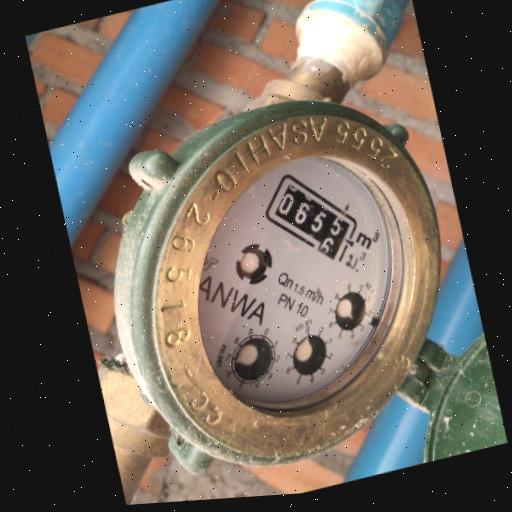0: (265, 179, 311, 226)
5: (308, 210, 359, 264), (298, 201, 342, 247)
6: (295, 190, 325, 231)
border_water_meter_number: (250, 154, 373, 280)
